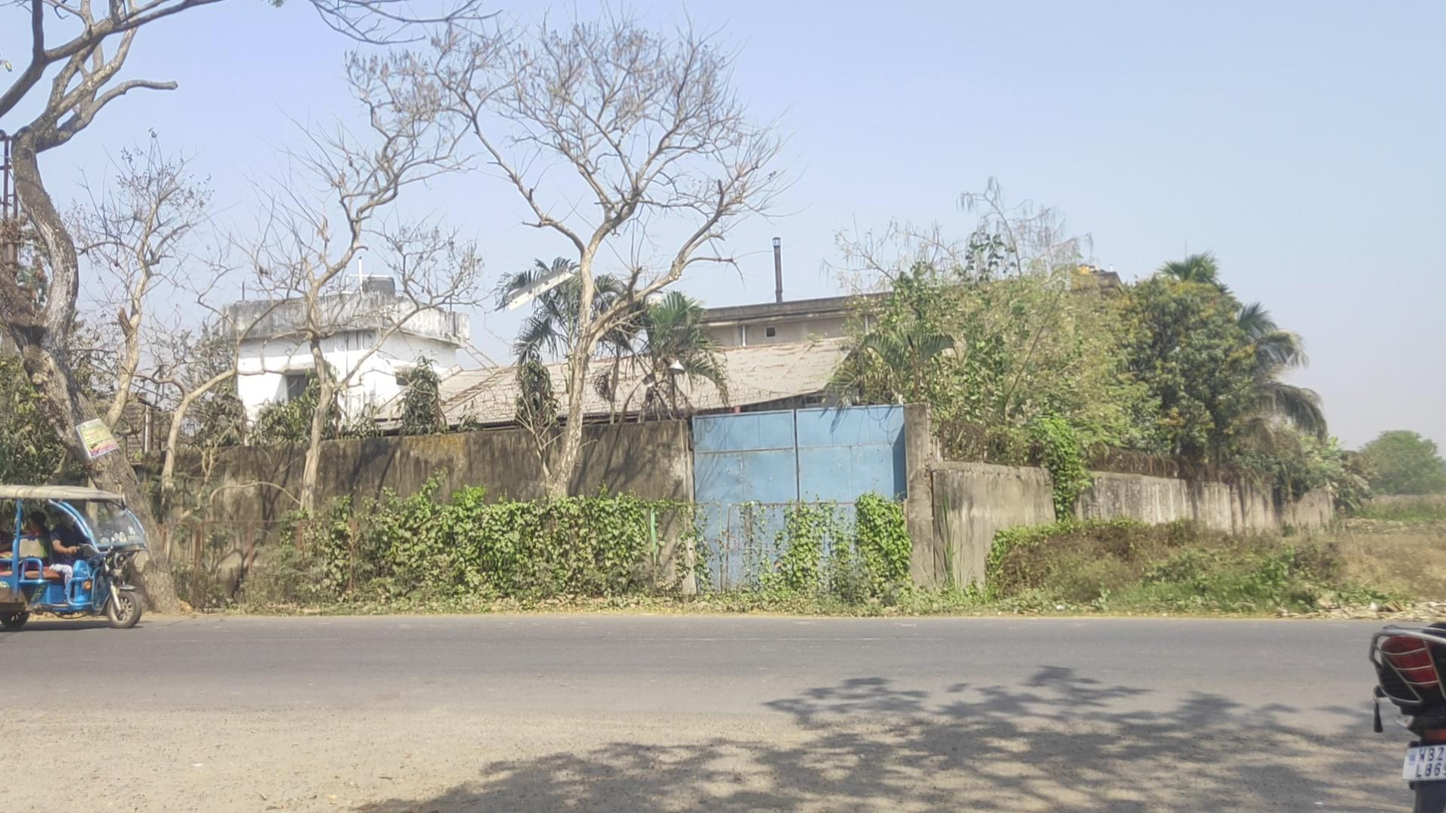Auto: (1, 484, 147, 633)
